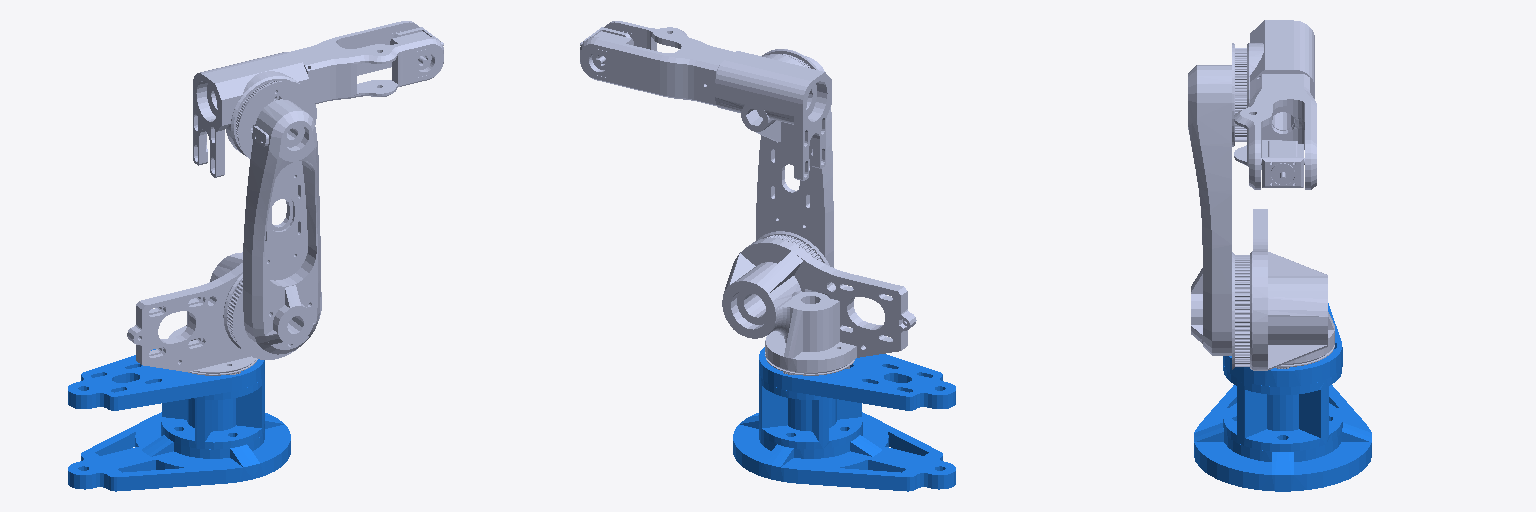
robot.urdf — URDF:
<?xml version="1.0" encoding="utf-8"?>
<!-- This URDF was automatically created by SolidWorks to URDF Exporter! Originally created by [author] ([email redacted]) 
     Commit Version: 1.6.0-4-g7f85cfe  Build Version: 1.6.7995.38578
     For more information, please see http://wiki.ros.org/sw_urdf_exporter -->
<robot
  name="URDF">
  <link
    name="base_link">
    <inertial>
      <origin
        xyz="-0.016156 -2.4892E-12 0.020606"
        rpy="0 0 0" />
      <mass
        value="0.38753" />
      <inertia
        ixx="0.00026462"
        ixy="1.3469E-14"
        ixz="-3.8E-06"
        iyy="0.00058898"
        iyz="-7.2589E-15"
        izz="0.00078804" />
    </inertial>
    <visual>
      <origin
        xyz="0 0 0"
        rpy="0 0 0" />
      <geometry>
        <mesh
          filename="package://URDF/meshes/base_link.STL" />
      </geometry>
      <material
        name="">
        <color
          rgba="0.17647 0.56471 0.99216 1" />
      </material>
    </visual>
    <collision>
      <origin
        xyz="0 0 0"
        rpy="0 0 0" />
      <geometry>
        <mesh
          filename="package://URDF/meshes/base_link.STL" />
      </geometry>
    </collision>
  </link>
  <link
    name="Link_01">
    <inertial>
      <origin
        xyz="0.012908 -0.0010469 0.12252"
        rpy="0 0 0" />
      <mass
        value="0.23517" />
      <inertia
        ixx="0.00013068"
        ixy="-1.7539E-05"
        ixz="-2.9663E-05"
        iyy="0.00031301"
        iyz="8.0204E-06"
        izz="0.00028226" />
    </inertial>
    <visual>
      <origin
        xyz="0 0 0"
        rpy="0 0 0" />
      <geometry>
        <mesh
          filename="package://URDF/meshes/Link_01.STL" />
      </geometry>
      <material
        name="">
        <color
          rgba="0.79216 0.81961 0.93333 1" />
      </material>
    </visual>
    <collision>
      <origin
        xyz="0 0 0"
        rpy="0 0 0" />
      <geometry>
        <mesh
          filename="package://URDF/meshes/Link_01.STL" />
      </geometry>
    </collision>
  </link>
  <joint
    name="Joint_01"
    type="revolute">
    <origin
      xyz="0 0 -0.012"
      rpy="0 0 0" />
    <parent
      link="base_link" />
    <child
      link="Link_01" />
    <axis
      xyz="0 0 -1" />
    <limit
      lower="0"
      upper="0"
      effort="0"
      velocity="0" />
  </joint>
  <link
    name="Link_02">
    <inertial>
      <origin
        xyz="-5.4295E-05 0.051396 0.039857"
        rpy="0 0 0" />
      <mass
        value="0.22611" />
      <inertia
        ixx="0.00071193"
        ixy="1.0948E-06"
        ixz="2.3123E-08"
        iyy="7.9191E-05"
        iyz="-9.8911E-06"
        izz="0.00077193" />
    </inertial>
    <visual>
      <origin
        xyz="0 0 0"
        rpy="0 0 0" />
      <geometry>
        <mesh
          filename="package://URDF/meshes/Link_02.STL" />
      </geometry>
      <material
        name="">
        <color
          rgba="0.79216 0.81961 0.93333 1" />
      </material>
    </visual>
    <collision>
      <origin
        xyz="0 0 0"
        rpy="0 0 0" />
      <geometry>
        <mesh
          filename="package://URDF/meshes/Link_02.STL" />
      </geometry>
    </collision>
  </link>
  <joint
    name="Joint_02"
    type="revolute">
    <origin
      xyz="0.0375 0 0.1353"
      rpy="1.5708 0 0" />
    <parent
      link="Link_01" />
    <child
      link="Link_02" />
    <axis
      xyz="0 0 -1" />
    <limit
      lower="0"
      upper="0"
      effort="0"
      velocity="0" />
  </joint>
  <link
    name="Link_03">
    <inertial>
      <origin
        xyz="0.0065181 -0.0036575 -0.0086999"
        rpy="0 0 0" />
      <mass
        value="0.15398" />
      <inertia
        ixx="8.6662E-05"
        ixy="-3.661E-06"
        ixz="-6.2515E-06"
        iyy="7.101E-05"
        iyz="2.8192E-06"
        izz="0.0001078" />
    </inertial>
    <visual>
      <origin
        xyz="0 0 0"
        rpy="0 0 0" />
      <geometry>
        <mesh
          filename="package://URDF/meshes/Link_03.STL" />
      </geometry>
      <material
        name="">
        <color
          rgba="0.79216 0.81961 0.93333 1" />
      </material>
    </visual>
    <collision>
      <origin
        xyz="0 0 0"
        rpy="0 0 0" />
      <geometry>
        <mesh
          filename="package://URDF/meshes/Link_03.STL" />
      </geometry>
    </collision>
  </link>
  <joint
    name="Joint_03"
    type="revolute">
    <origin
      xyz="0 0.16 0"
      rpy="-3.1416 0 1.5708" />
    <parent
      link="Link_02" />
    <child
      link="Link_03" />
    <axis
      xyz="0 0 -1" />
    <limit
      lower="0"
      upper="0"
      effort="0"
      velocity="0" />
  </joint>
  <link
    name="Link_04">
    <inertial>
      <origin
        xyz="-1.0286E-05 -0.000807 0.082695"
        rpy="0 0 0" />
      <mass
        value="0.082509" />
      <inertia
        ixx="8.8551E-05"
        ixy="1.2049E-08"
        ixz="-3.2953E-08"
        iyy="8.1549E-05"
        iyz="9.0856E-07"
        izz="2.6186E-05" />
    </inertial>
    <visual>
      <origin
        xyz="0 0 0"
        rpy="0 0 0" />
      <geometry>
        <mesh
          filename="package://URDF/meshes/Link_04.STL" />
      </geometry>
      <material
        name="">
        <color
          rgba="0.79216 0.81961 0.93333 1" />
      </material>
    </visual>
    <collision>
      <origin
        xyz="0 0 0"
        rpy="0 0 0" />
      <geometry>
        <mesh
          filename="package://URDF/meshes/Link_04.STL" />
      </geometry>
    </collision>
  </link>
  <joint
    name="Joint_04"
    type="revolute">
    <origin
      xyz="0.015 0 0"
      rpy="-1.5708 0 0" />
    <parent
      link="Link_03" />
    <child
      link="Link_04" />
    <axis
      xyz="0 0 1" />
    <limit
      lower="0"
      upper="0"
      effort="0"
      velocity="0" />
  </joint>
  <link
    name="Link_05">
    <inertial>
      <origin
        xyz="-1.3878E-15 0.0065242 2.3245E-16"
        rpy="0 0 0" />
      <mass
        value="0.0060985" />
      <inertia
        ixx="1.181E-06"
        ixy="6.5374E-22"
        ixz="2.0199E-21"
        iyy="9.7751E-07"
        iyz="7.2992E-21"
        izz="6.7316E-07" />
    </inertial>
    <visual>
      <origin
        xyz="0 0 0"
        rpy="0 0 0" />
      <geometry>
        <mesh
          filename="package://URDF/meshes/Link_05.STL" />
      </geometry>
      <material
        name="">
        <color
          rgba="0.79216 0.81961 0.93333 1" />
      </material>
    </visual>
    <collision>
      <origin
        xyz="0 0 0"
        rpy="0 0 0" />
      <geometry>
        <mesh
          filename="package://URDF/meshes/Link_05.STL" />
      </geometry>
    </collision>
  </link>
  <joint
    name="Joint_05"
    type="revolute">
    <origin
      xyz="0 0 0.1381"
      rpy="1.5708 0 0" />
    <parent
      link="Link_04" />
    <child
      link="Link_05" />
    <axis
      xyz="0 0 1" />
    <limit
      lower="0"
      upper="0"
      effort="0"
      velocity="0" />
  </joint>
  <link
    name="Link_06">
    <inertial>
      <origin
        xyz="-1.4433E-15 -1.4919E-16 0.0037966"
        rpy="0 0 0" />
      <mass
        value="0.012402" />
      <inertia
        ixx="1.4251E-06"
        ixy="1.1163E-22"
        ixz="2.728E-21"
        iyy="1.4251E-06"
        iyz="1.5719E-20"
        izz="8.0237E-07" />
    </inertial>
    <visual>
      <origin
        xyz="0 0 0"
        rpy="0 0 0" />
      <geometry>
        <mesh
          filename="package://URDF/meshes/Link_06.STL" />
      </geometry>
      <material
        name="">
        <color
          rgba="0.79216 0.81961 0.93333 1" />
      </material>
    </visual>
    <collision>
      <origin
        xyz="0 0 0"
        rpy="0 0 0" />
      <geometry>
        <mesh
          filename="package://URDF/meshes/Link_06.STL" />
      </geometry>
    </collision>
  </link>
  <joint
    name="Joint_06"
    type="revolute">
    <origin
      xyz="0 0 0"
      rpy="-1.5708 0 0" />
    <parent
      link="Link_05" />
    <child
      link="Link_06" />
    <axis
      xyz="0 0 1" />
    <limit
      lower="0"
      upper="0"
      effort="0"
      velocity="0" />
  </joint>
</robot>

--- Facts derived from the render (not from the file) ---
The picture shows the robot from 3 angles, left to right: view 1: azimuth 30°, elevation 25°; view 2: azimuth 150°, elevation 25°; view 3: azimuth 270°, elevation 25°; orthographic projection.
Robot: URDF — 7 links, 6 joints (6 revolute); root link base_link; default pose: all joints at 0.
Links seen in each view (by area): view 1: base_link, Link_02, Link_03, Link_01, Link_04; view 2: base_link, Link_01, Link_03, Link_04, Link_02; view 3: base_link, Link_02, Link_01, Link_04, Link_03, Link_05, Link_06.
Boxes of the visible links, x1,y1,x2,y2 form: base_link: [68, 349, 290, 491]; Link_02: [223, 99, 321, 359]; Link_03: [193, 52, 316, 177]; Link_01: [127, 252, 257, 375]; Link_04: [289, 21, 443, 103]; base_link: [733, 347, 955, 491]; Link_01: [722, 238, 916, 375]; Link_03: [715, 49, 831, 180]; Link_04: [580, 21, 734, 105]; Link_02: [753, 56, 834, 284]; base_link: [1194, 303, 1371, 491]; Link_02: [1188, 65, 1252, 369]; Link_01: [1253, 209, 1334, 370]; Link_04: [1234, 74, 1316, 189]; Link_03: [1232, 20, 1314, 146]; Link_05: [1261, 144, 1304, 187]; Link_06: [1268, 141, 1297, 184].
Bounding box of the posed robot: 0.3313 × 0.124 × 0.3183 m (x, y, z).
Meshes: 7 distinct files referenced, 7 mesh visuals loaded (7 binary STL).
